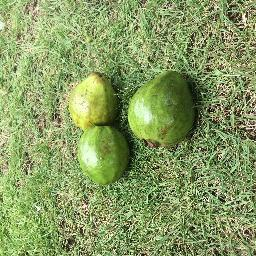Good_guava: (128, 67, 204, 150), (73, 125, 128, 187), (65, 72, 123, 129)
